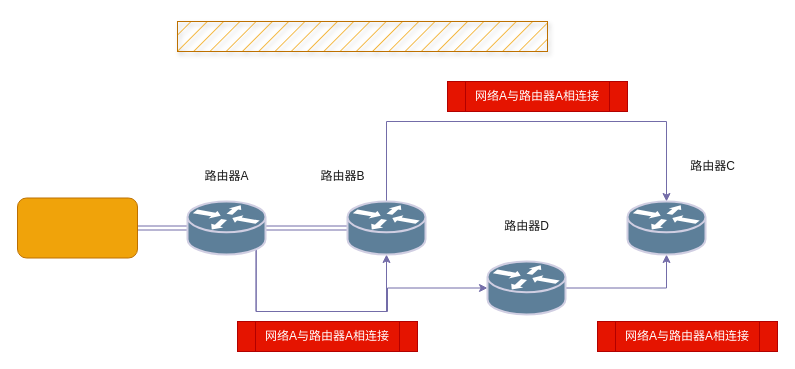
This 795x369 diagram has some shape labels left out. Here are the shapes that lost their labels. From the top down, the centre of each, then its label:
At (x=363, y=37): "与哪个网络或与哪个路由器相连的信息要通过接力的方式进行发送".
At (x=77, y=227): "网络A".
